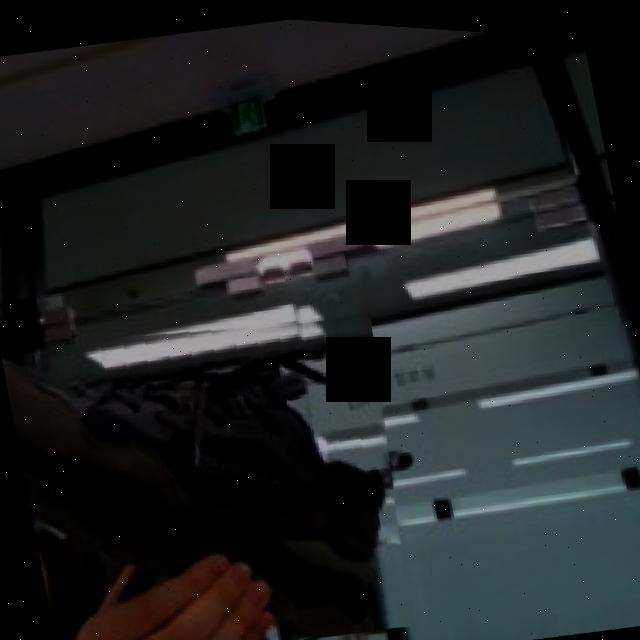shoe: (0, 276, 429, 640)
